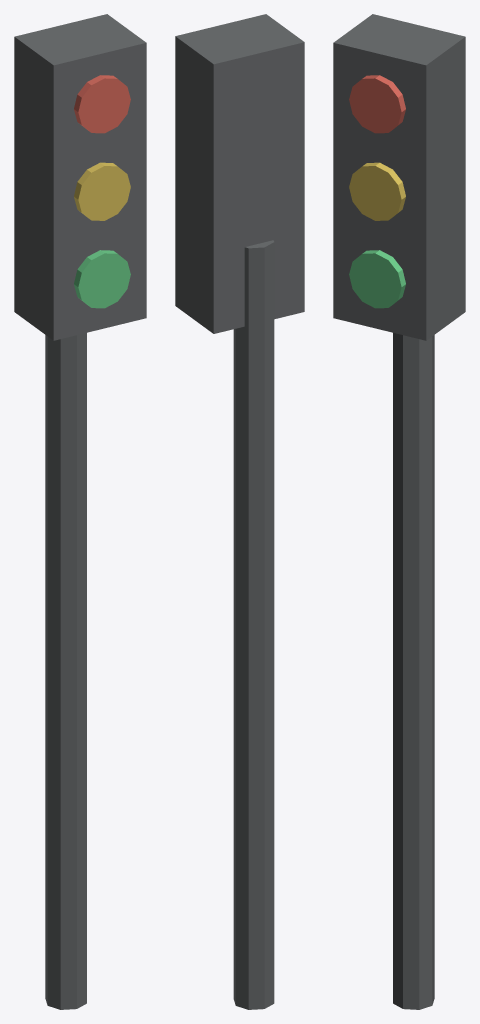
File: traffic-light.glb
3 renders of one model, left to right at view 1: azimuth 30°, elevation 25°; view 2: azimuth 210°, elevation 25°; view 3: azimuth 330°, elevation 25°, orthographic. The views are drawn at different scales.
Visible parts, largest first — view 1: traffic-light; view 2: traffic-light; view 3: traffic-light.
Part boxes in pixels (x1,y1,x2,y2): traffic-light: (14, 14, 146, 1009); traffic-light: (175, 14, 304, 1009); traffic-light: (333, 14, 465, 1009).
Bounding box in the file's own units: 0.2999 × 3 × 0.275.
